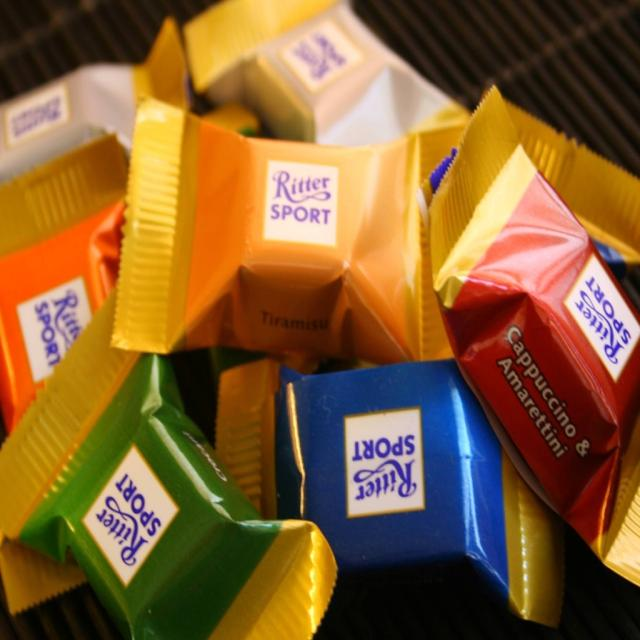rittersport: (82, 448, 177, 585), (563, 253, 640, 382), (342, 408, 424, 516), (17, 275, 96, 385), (277, 12, 364, 97), (263, 158, 341, 249)
